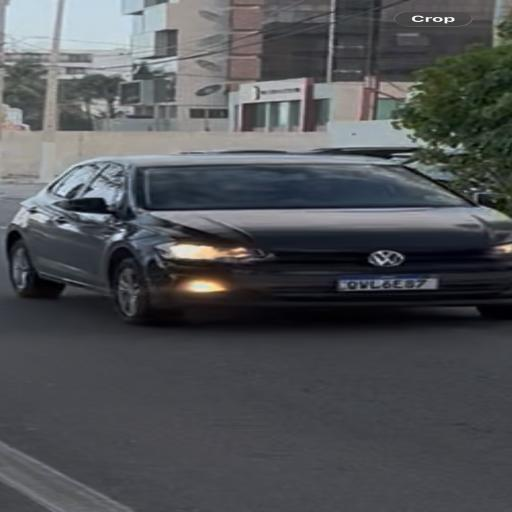detec-o-placas: (309, 264, 467, 310)
